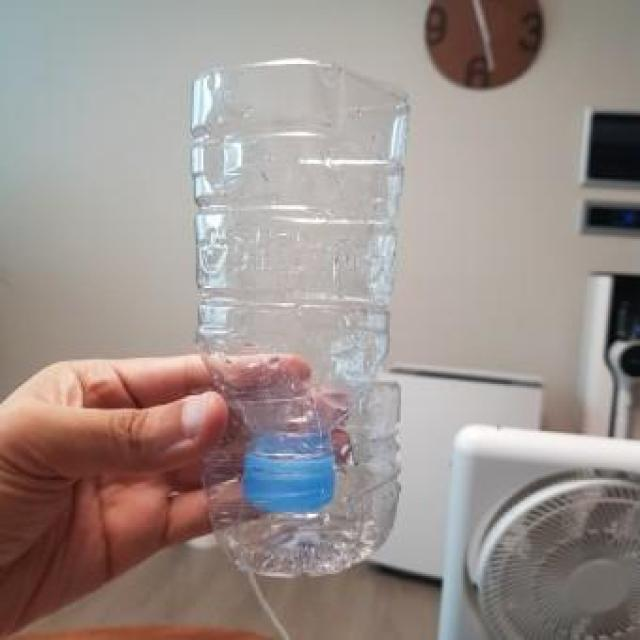bottle: (194, 58, 412, 576)
